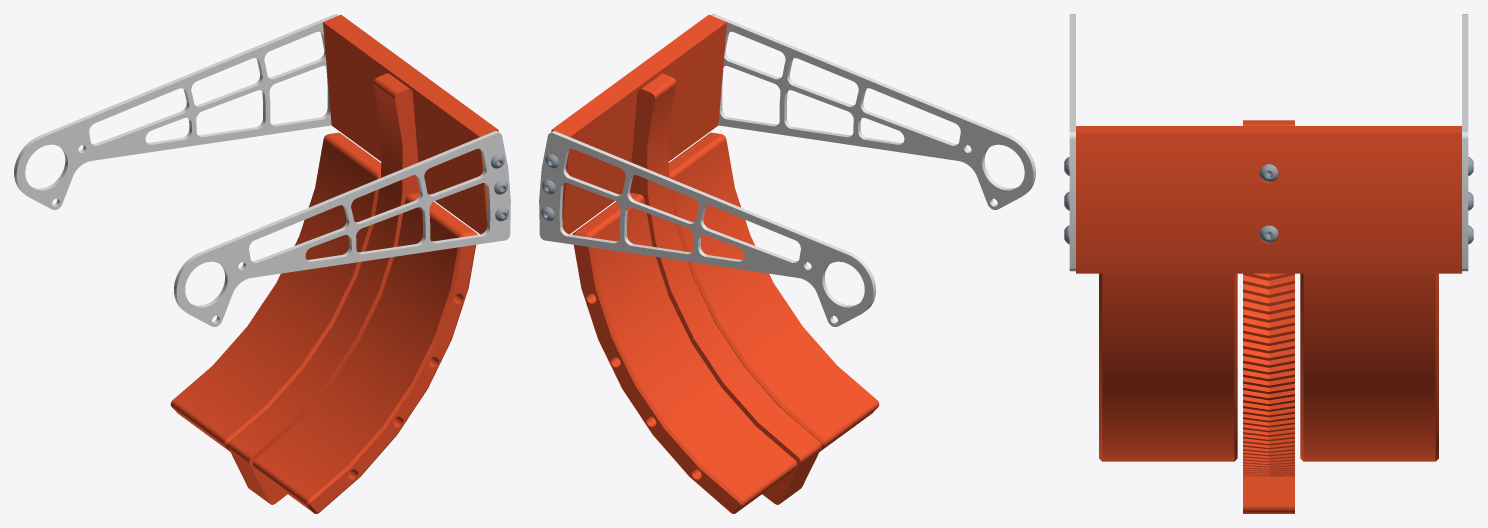
The picture shows the model from 3 angles, left to right: view 1: azimuth 30°, elevation 25°; view 2: azimuth 150°, elevation 25°; view 3: azimuth 270°, elevation 25°; orthographic projection. The views are drawn at different scales.
Visible parts, largest first — view 1: Static Hood.001, Static Hood, Hood Mounting Print, Hood Rack Gear, Hood Side Plate, Hood Side Plate.001; view 2: Static Hood, Static Hood.001, Hood Mounting Print, Hood Rack Gear, Hood Side Plate.001, Hood Side Plate; view 3: Hood Mounting Print, Static Hood, Static Hood.001, Hood Rack Gear, Hood Side Plate, Hood Side Plate.001.
Boxes of the visible parts, x1,y1,x2,y2 form: Static Hood.001: (253, 192, 477, 513); Static Hood: (170, 132, 381, 451); Hood Mounting Print: (323, 15, 498, 234); Hood Rack Gear: (228, 73, 419, 504); Hood Side Plate: (174, 131, 510, 326); Hood Side Plate.001: (14, 14, 338, 209); Static Hood: (572, 192, 796, 513); Static Hood.001: (668, 132, 879, 451); Hood Mounting Print: (551, 15, 726, 234); Hood Rack Gear: (630, 73, 821, 504); Hood Side Plate.001: (539, 131, 875, 326); Hood Side Plate: (711, 14, 1035, 209); Hood Mounting Print: (1076, 126, 1461, 273); Static Hood: (1300, 273, 1438, 461); Static Hood.001: (1099, 273, 1237, 461); Hood Rack Gear: (1243, 120, 1294, 513); Hood Side Plate: (1069, 14, 1075, 271); Hood Side Plate.001: (1462, 14, 1468, 271).
Bounding box in the file's own units: 0.232 × 0.2541 × 0.1988.
